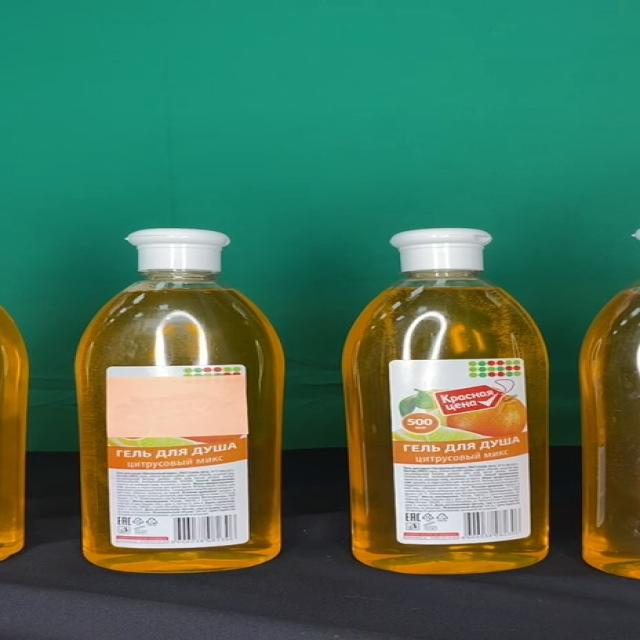Bottle: (76, 228, 286, 571), (345, 227, 548, 574)
Cap: (126, 228, 230, 272), (388, 228, 492, 270)
